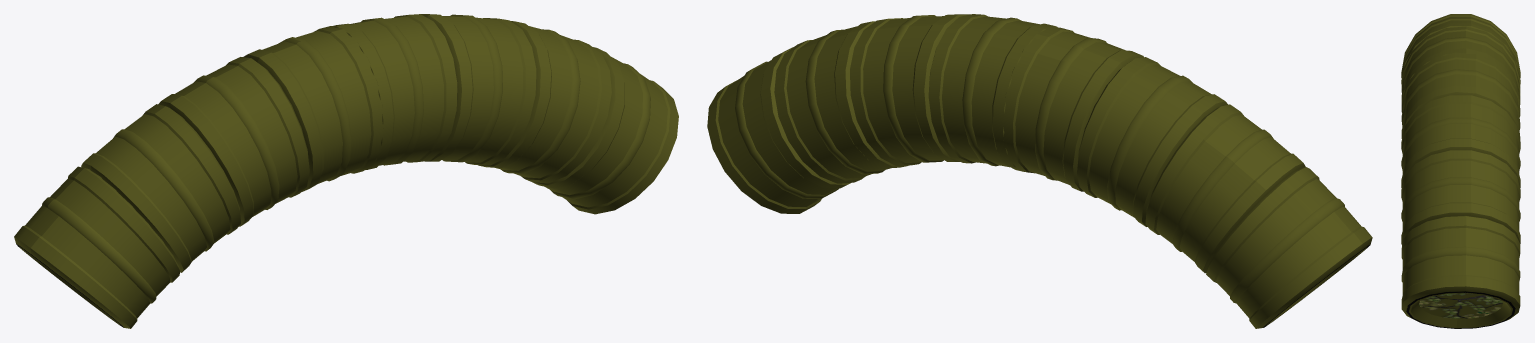
The model's file is pipe_b_90.FBX.
The picture shows the model from 3 angles, left to right: view 1: azimuth 30°, elevation 25°; view 2: azimuth 150°, elevation 25°; view 3: azimuth 270°, elevation 25°; orthographic projection. The views are drawn at different scales.
Visible parts, largest first — view 1: pipe_b_90; view 2: pipe_b_90; view 3: pipe_b_90.
Boxes of the visible parts, x1,y1,x2,y2 form: pipe_b_90: [14, 14, 678, 328]; pipe_b_90: [707, 14, 1372, 328]; pipe_b_90: [1401, 14, 1520, 328].
Bounding box in the file's own units: 7.41 × 1.5 × 2.58.
